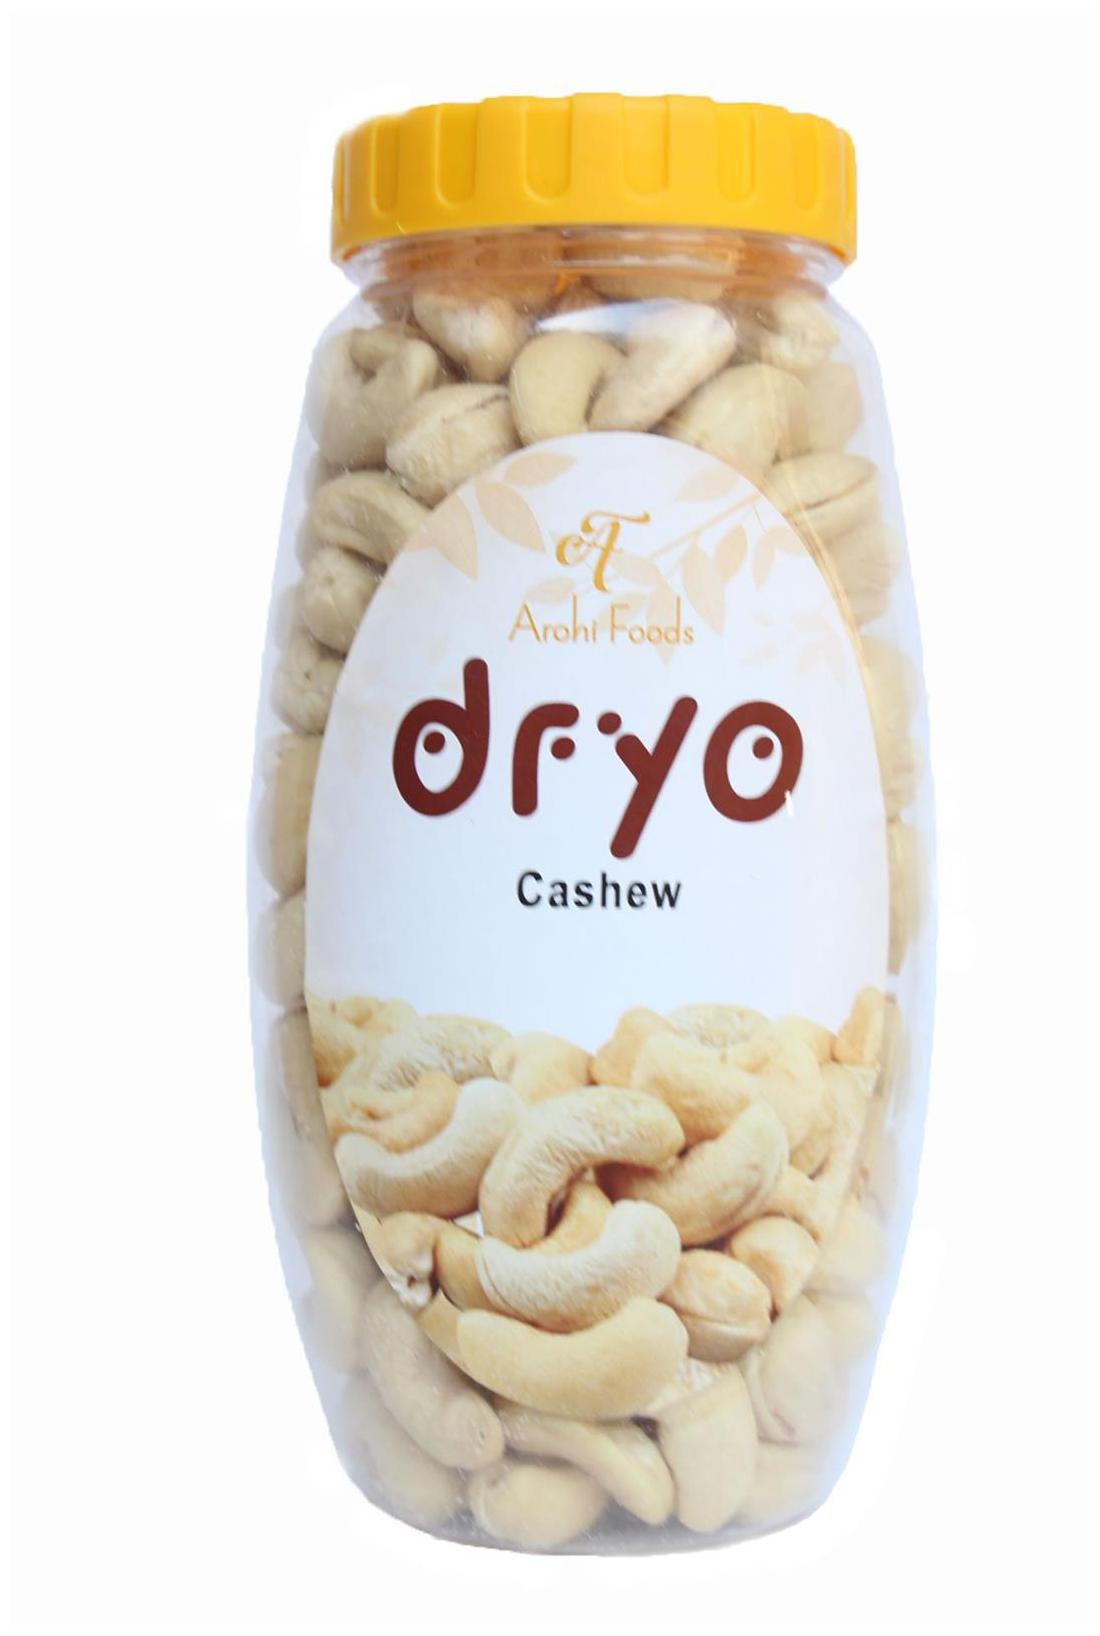JAR: (223, 75, 962, 1568)
